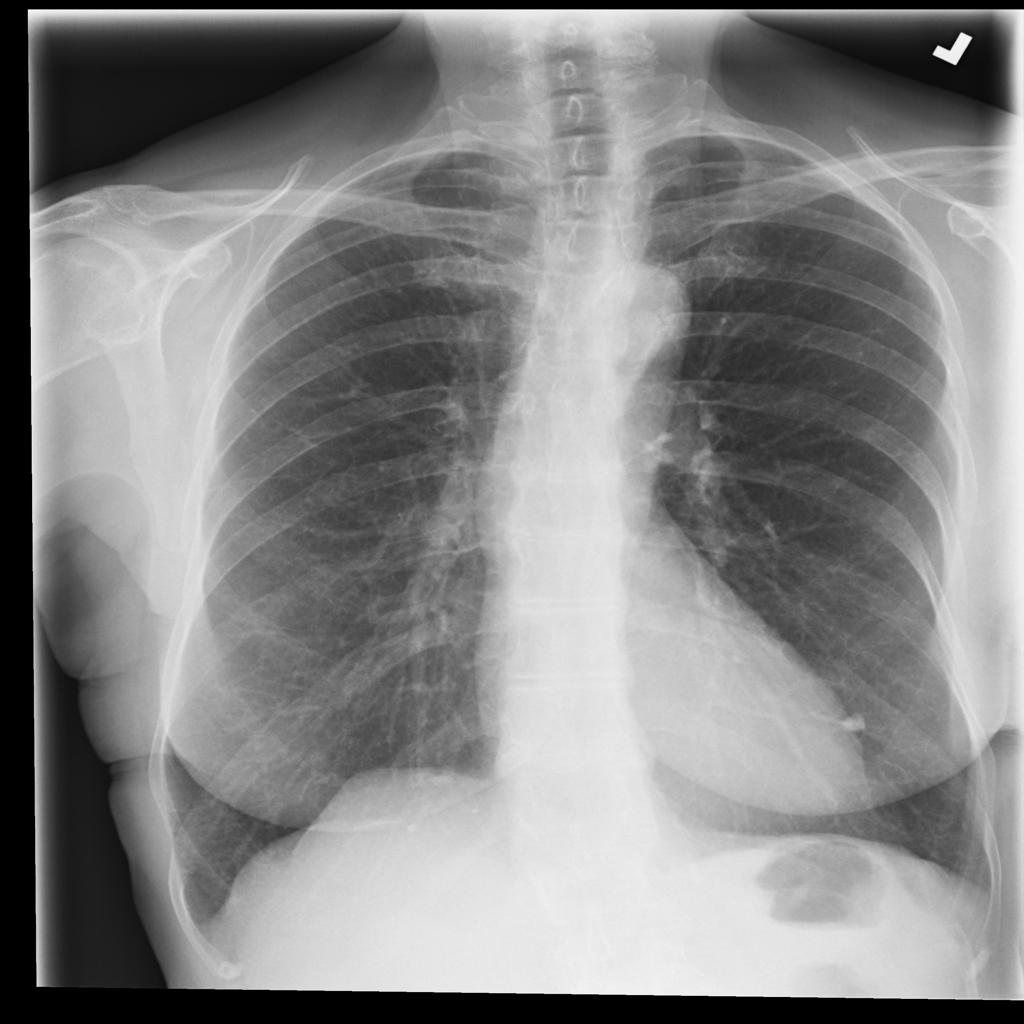nodule: (825, 700, 880, 746)
